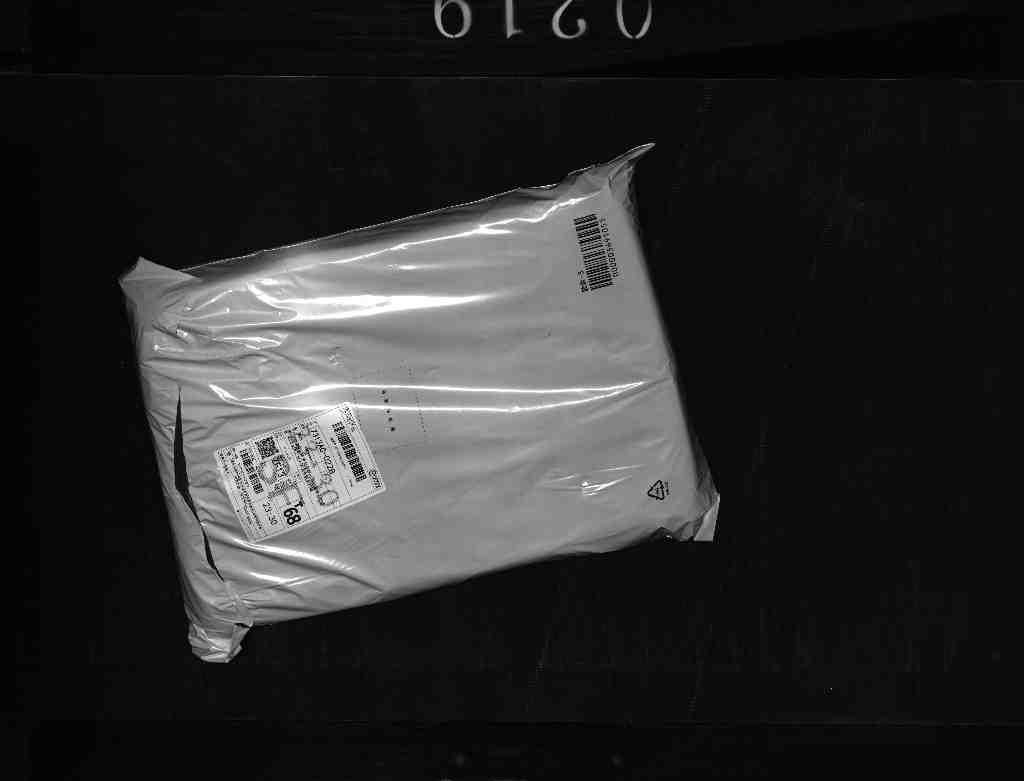box: (120, 145, 749, 686)
